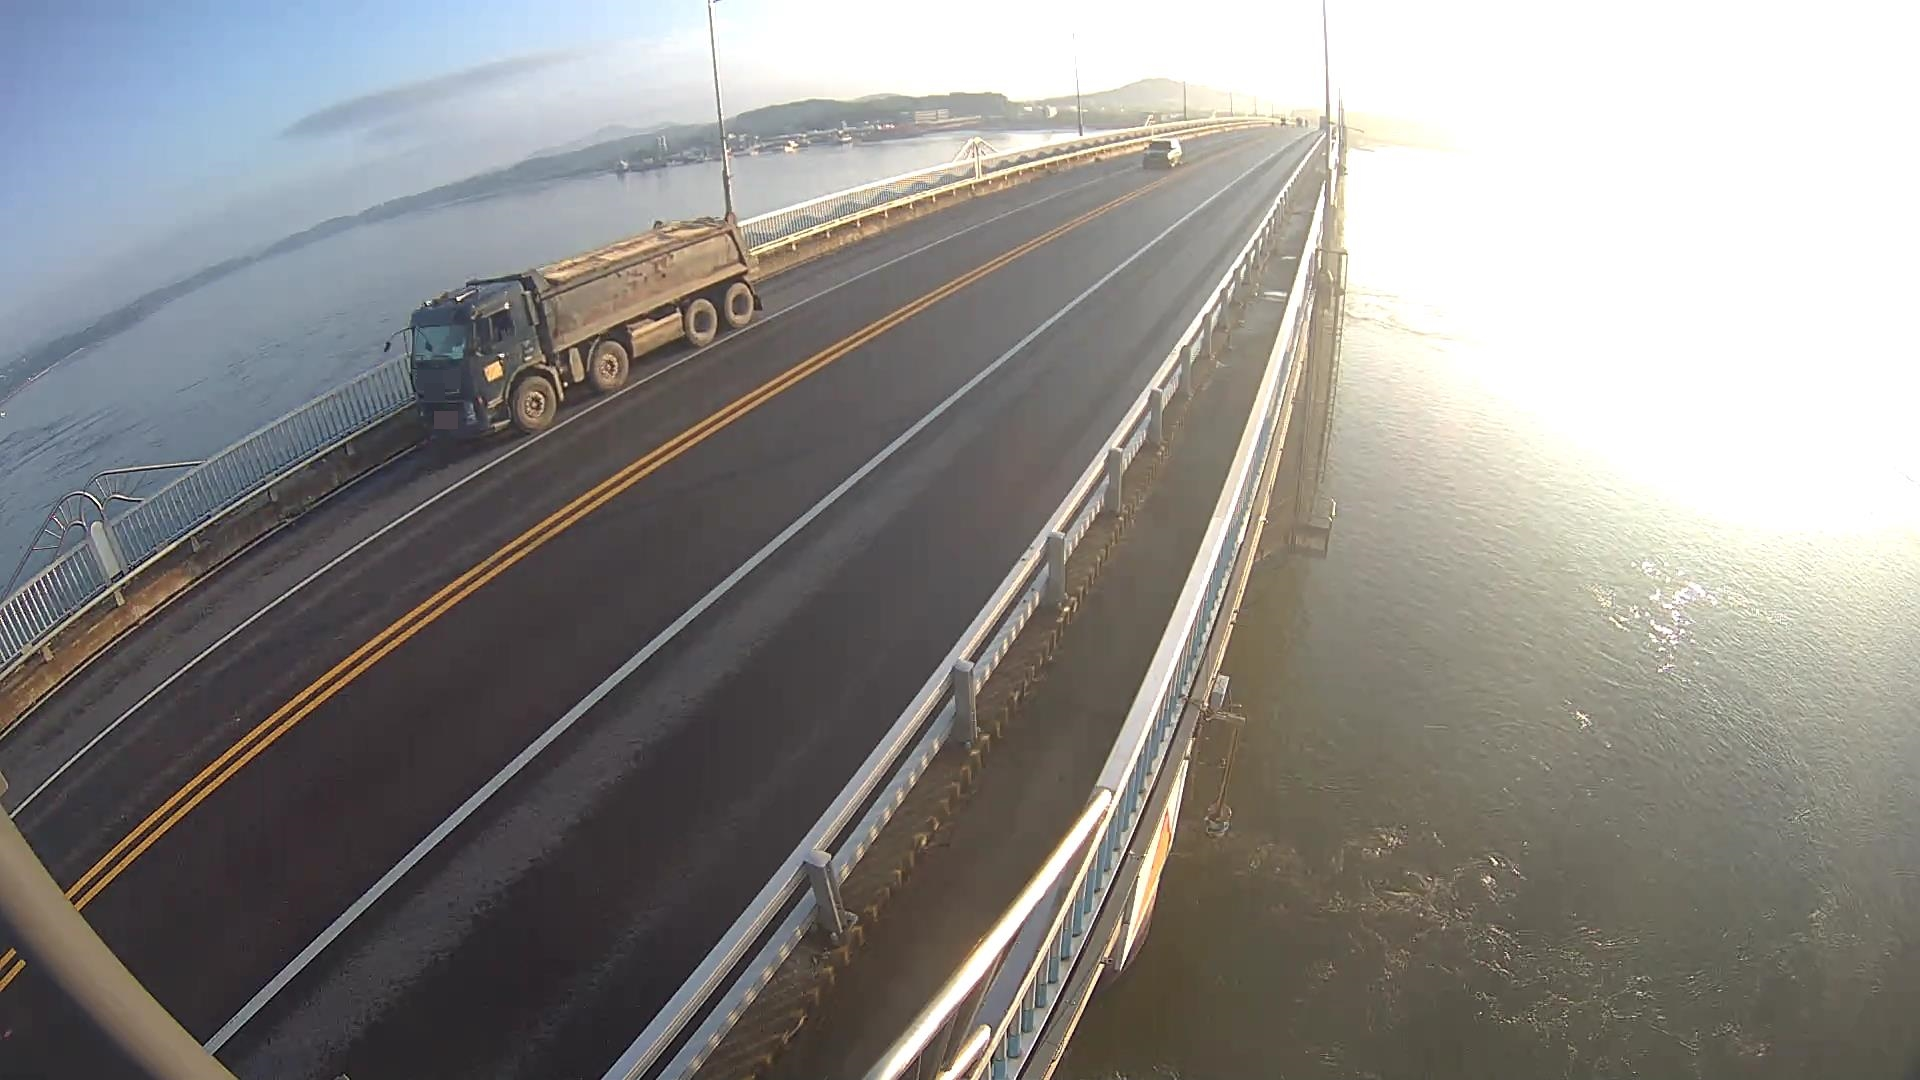정상차량: (384, 211, 763, 439)
